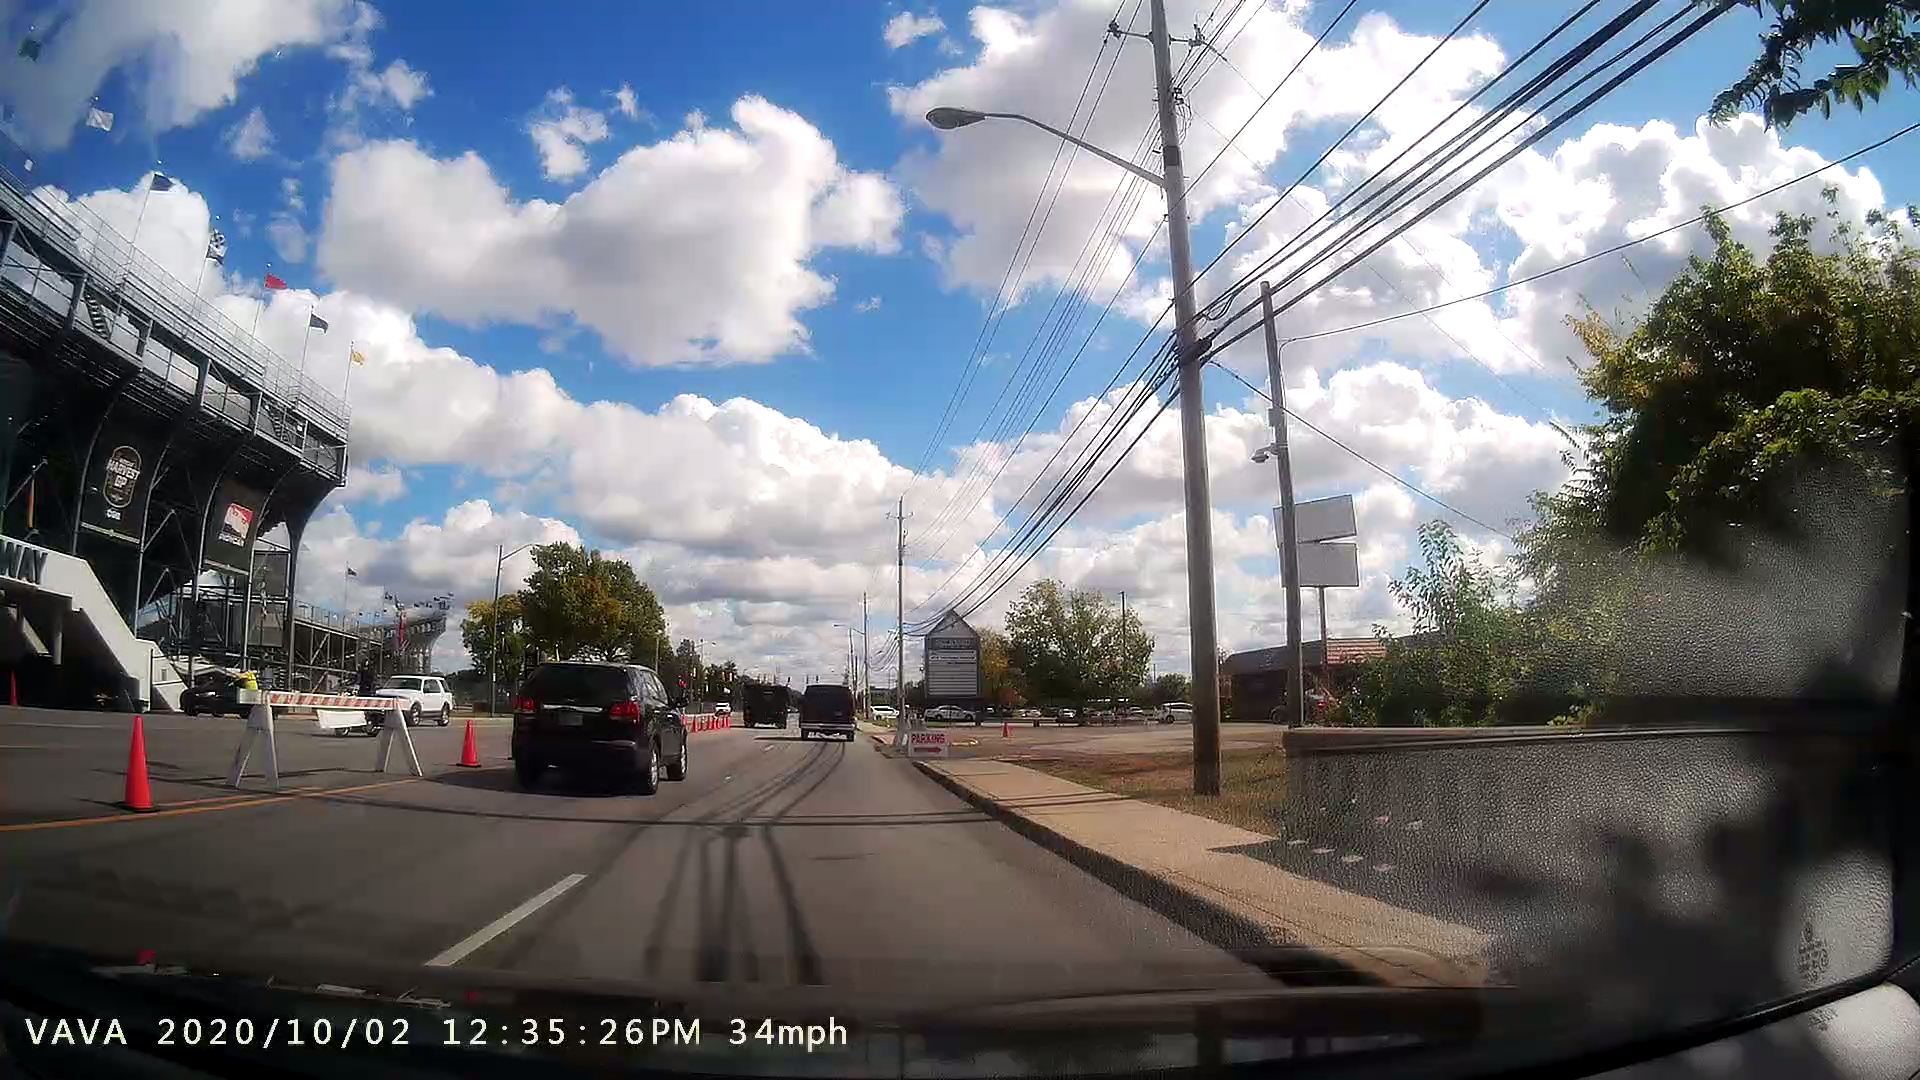const_barricade: (214, 678, 425, 793)
const_cone: (104, 703, 169, 816), (455, 712, 484, 777)
